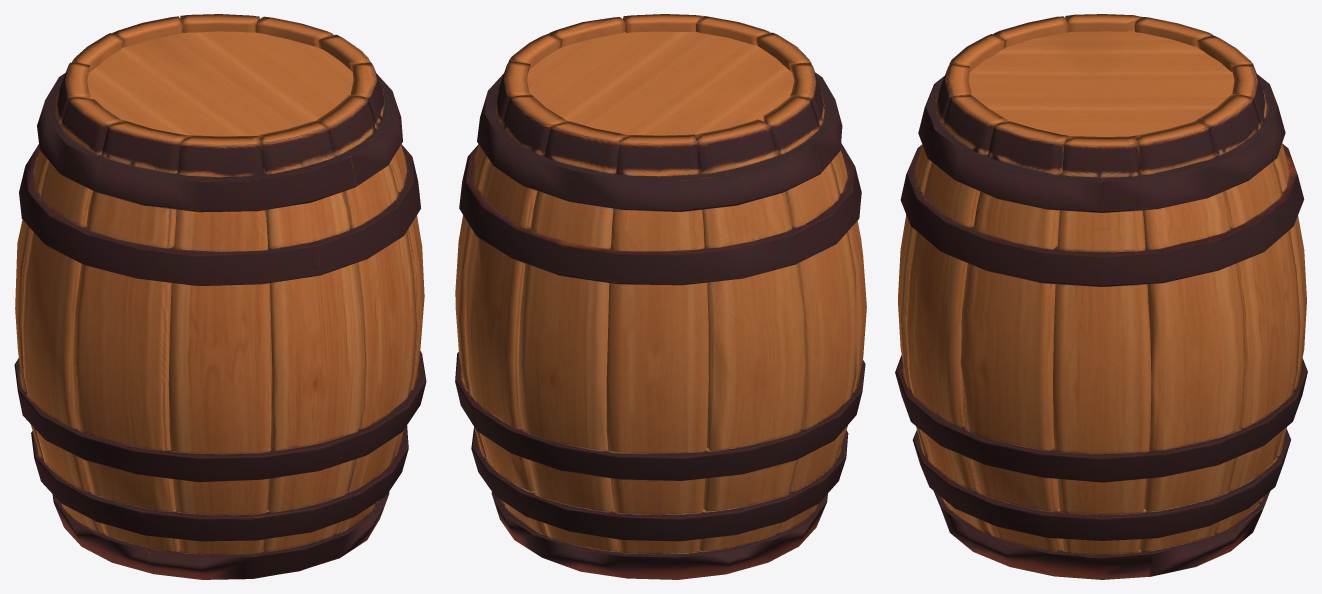
The model's file is barrel.glb.
The picture shows the model from 3 angles, left to right: view 1: azimuth 30°, elevation 25°; view 2: azimuth 150°, elevation 25°; view 3: azimuth 270°, elevation 25°; orthographic projection.
Visible parts, largest first — view 1: Mesh_0; view 2: Mesh_0; view 3: Mesh_0.
Part boxes in pixels (x1,y1,x2,y2): Mesh_0: [14, 14, 426, 579]; Mesh_0: [455, 14, 866, 579]; Mesh_0: [895, 14, 1307, 579].
Bounding box in the file's own units: 0.6111 × 0.7 × 0.607.
Materials: 1 (1 with a texture image).
